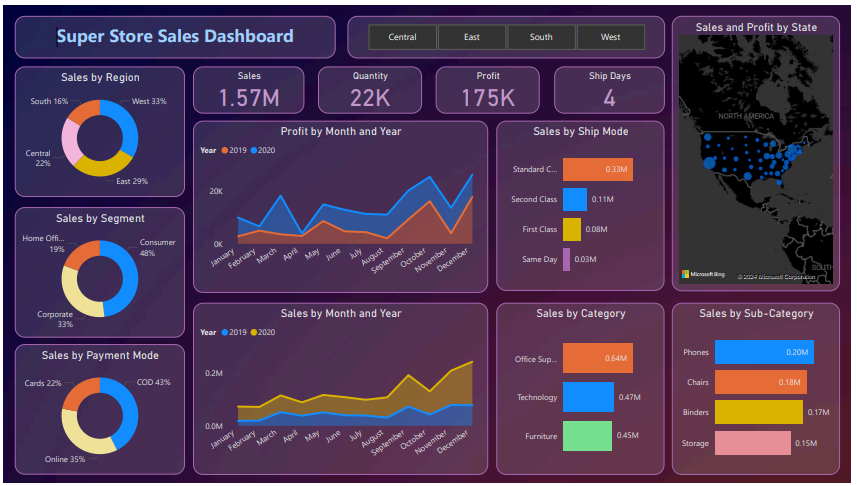

What the dashboard file says about the page in this screenshot:
{"tool":"powerbi","page":{"name":"Page 1","canvas":[1280,720],"ordinal":0},"visuals":[{"type":"clusteredBarChart","title":"Sales by Category","fields":{"Category":["SuperStore Sales DataSet.Category"],"Y":["Sum(SuperStore Sales DataSet.Sales)"]},"box":[745,449,254.4,259.9],"z":0},{"type":"clusteredBarChart","title":"Sales by Sub-Category","fields":{"Y":["Sum(SuperStore Sales DataSet.Sales)"],"Category":["SuperStore Sales DataSet.Sub-Category"]},"box":[1010.5,449,254.4,259.9],"z":1000},{"type":"clusteredBarChart","title":"Sales by Ship Mode","fields":{"Y":["Sum(SuperStore Sales DataSet.Sales)"],"Category":["SuperStore Sales DataSet.Ship Mode"]},"box":[745,173.7,254.4,257.1],"z":2000},{"type":"stackedAreaChart","title":"Sales by Month and Year","fields":{"Y":["Sum(SuperStore Sales DataSet.Sales)"],"Series":["SuperStore Sales DataSet.Order Date.Variation.Date Hierarchy.Year"],"Category":["SuperStore Sales DataSet.Order Date.Variation.Date Hierarchy.Month","SuperStore Sales DataSet.Order Date.Variation.Date Hierarchy.Day"]},"box":[286.3,449,446.2,259.9],"z":3000},{"type":"stackedAreaChart","title":"Profit by Month and Year","fields":{"Series":["SuperStore Sales DataSet.Order Date.Variation.Date Hierarchy.Year"],"Category":["SuperStore Sales DataSet.Order Date.Variation.Date Hierarchy.Month","SuperStore Sales DataSet.Order Date.Variation.Date Hierarchy.Day"],"Y":["Sum(SuperStore Sales DataSet.Profit)"]},"box":[286.3,173.7,446.2,259.9],"z":4000},{"type":"map","title":"Sales and Profit by State","fields":{"Category":["SuperStore Sales DataSet.State"],"Size":["Sum(SuperStore Sales DataSet.Sales)"]},"box":[1010.5,15.3,254.4,415.6],"z":5000},{"type":"donutChart","title":"Sales by Segment","fields":{"Category":["SuperStore Sales DataSet.Segment"],"Y":["Sum(SuperStore Sales DataSet.Sales)"]},"box":[16.7,304.4,257.1,197.4],"z":6000},{"type":"donutChart","title":"Sales by Payment Mode","fields":{"Y":["Sum(SuperStore Sales DataSet.Sales)"],"Category":["SuperStore Sales DataSet.Payment Mode"]},"box":[16.7,511.5,257.1,197.4],"z":7000},{"type":"slicer","fields":{"Values":["SuperStore Sales DataSet.Region"]},"box":[519.8,15.3,479.5,63.9],"z":8000},{"type":"textbox","box":[16.7,15.3,485.1,63.9],"z":9000},{"type":"card","title":"Sales","fields":{"Values":["Sum(SuperStore Sales DataSet.Sales)"]},"box":[286.3,91.7,168.2,70.9],"z":10000},{"type":"card","title":"Quantity","fields":{"Values":["Sum(SuperStore Sales DataSet.Quantity)"]},"box":[475.4,91.7,157.1,70.9],"z":11000},{"type":"card","title":"Profit","fields":{"Values":["Sum(SuperStore Sales DataSet.Profit)"]},"box":[653.3,91.7,157.1,70.9],"z":12000},{"type":"card","title":"Ship Days","fields":{"Values":["Avg(SuperStore Sales DataSet.AvgDelivery)"]},"box":[832.6,91.7,166.8,70.9],"z":13000},{"type":"donutChart","title":"Sales by Region","fields":{"Y":["Sum(SuperStore Sales DataSet.Sales)"],"Category":["SuperStore Sales DataSet.Region"]},"box":[16.7,91.7,257.1,197.4],"z":14000}]}

Visuals, with their boxes in screenshot pixels (x1, y1, x2, y2), scaled from the page's 1280x720 canvas onto the 857x486 screenshot:
"Sales by Category" clusteredBarChart: 499, 303, 669, 479
"Sales by Sub-Category" clusteredBarChart: 677, 303, 847, 479
"Sales by Ship Mode" clusteredBarChart: 499, 117, 669, 291
"Sales by Month and Year" stackedAreaChart: 192, 303, 490, 479
"Profit by Month and Year" stackedAreaChart: 192, 117, 490, 293
"Sales and Profit by State" map: 677, 10, 847, 291
"Sales by Segment" donutChart: 11, 205, 183, 339
"Sales by Payment Mode" donutChart: 11, 345, 183, 479
slicer - SuperStore Sales DataSet.Region: 348, 10, 669, 53
textbox: 11, 10, 336, 53
"Sales" card: 192, 62, 304, 110
"Quantity" card: 318, 62, 423, 110
"Profit" card: 437, 62, 543, 110
"Ship Days" card: 557, 62, 669, 110
"Sales by Region" donutChart: 11, 62, 183, 195
